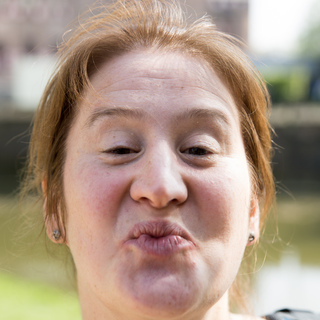eye: (98, 140, 145, 164), (176, 140, 221, 165)
